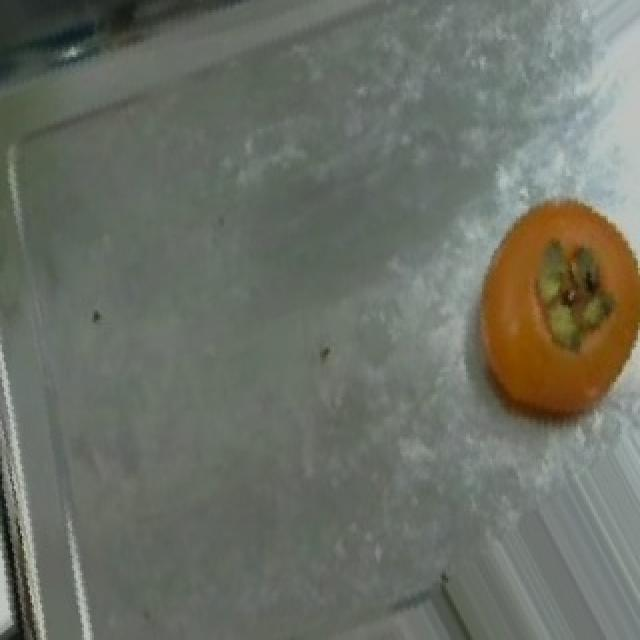Fruit: (452, 181, 640, 442)
